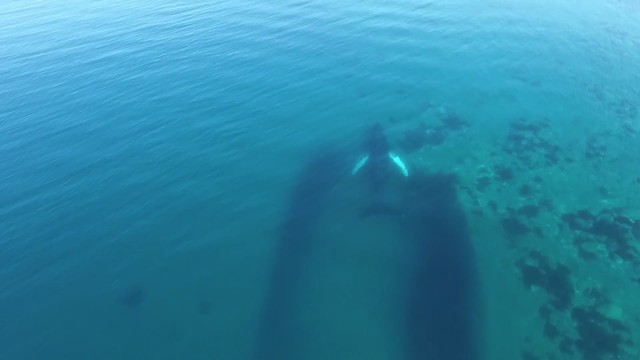whale: (348, 114, 410, 224)
